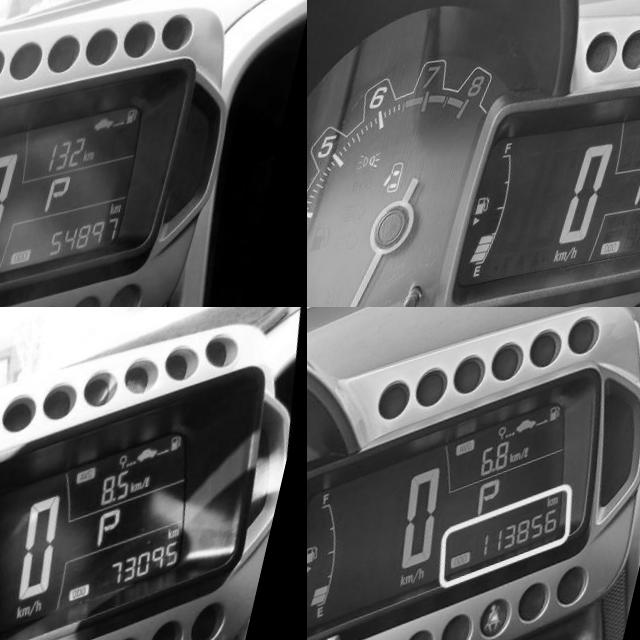Doors: (394, 168, 418, 203)
SideLamp: (366, 155, 394, 180)
